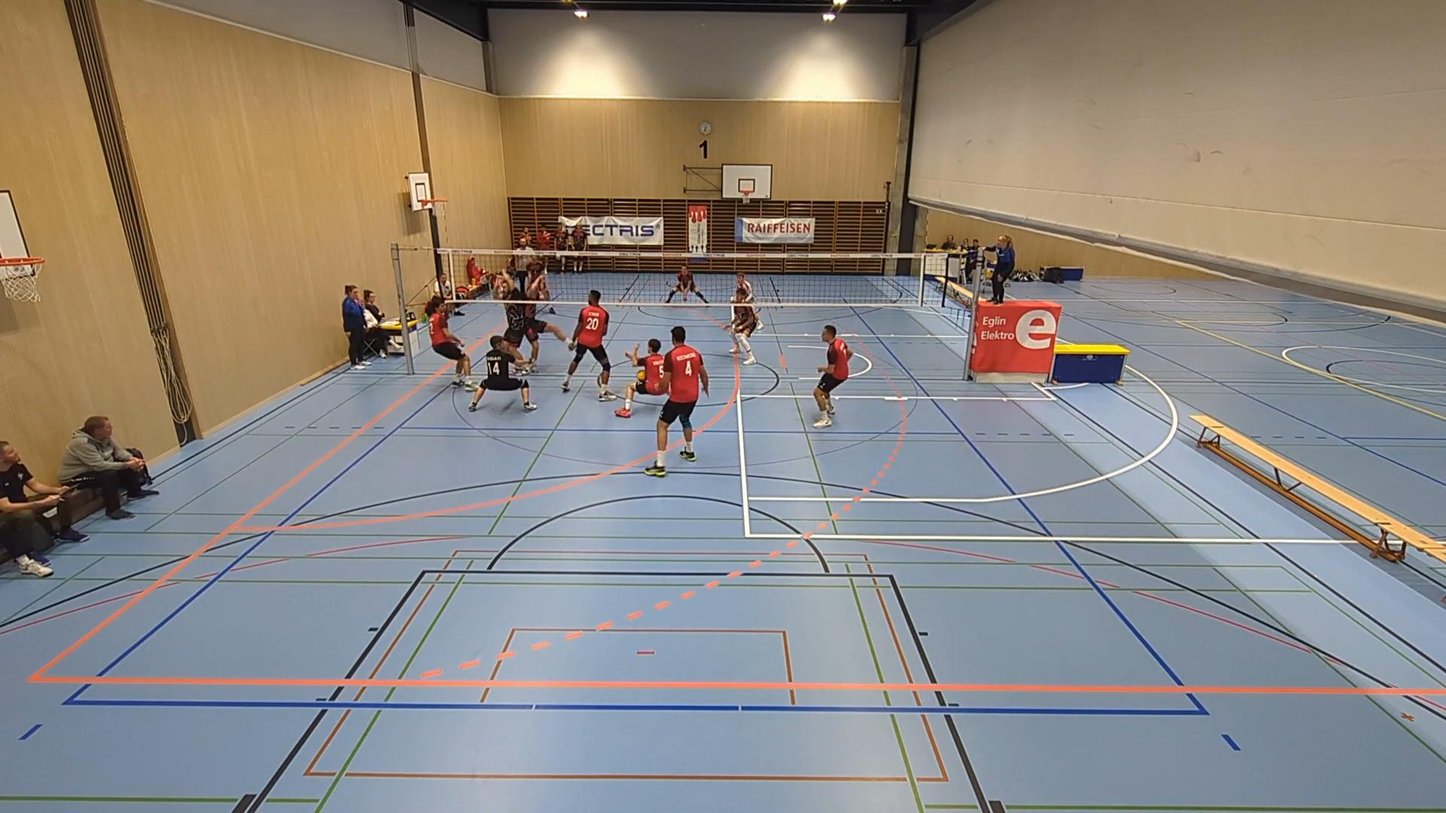difesa: (470, 333, 537, 415)
